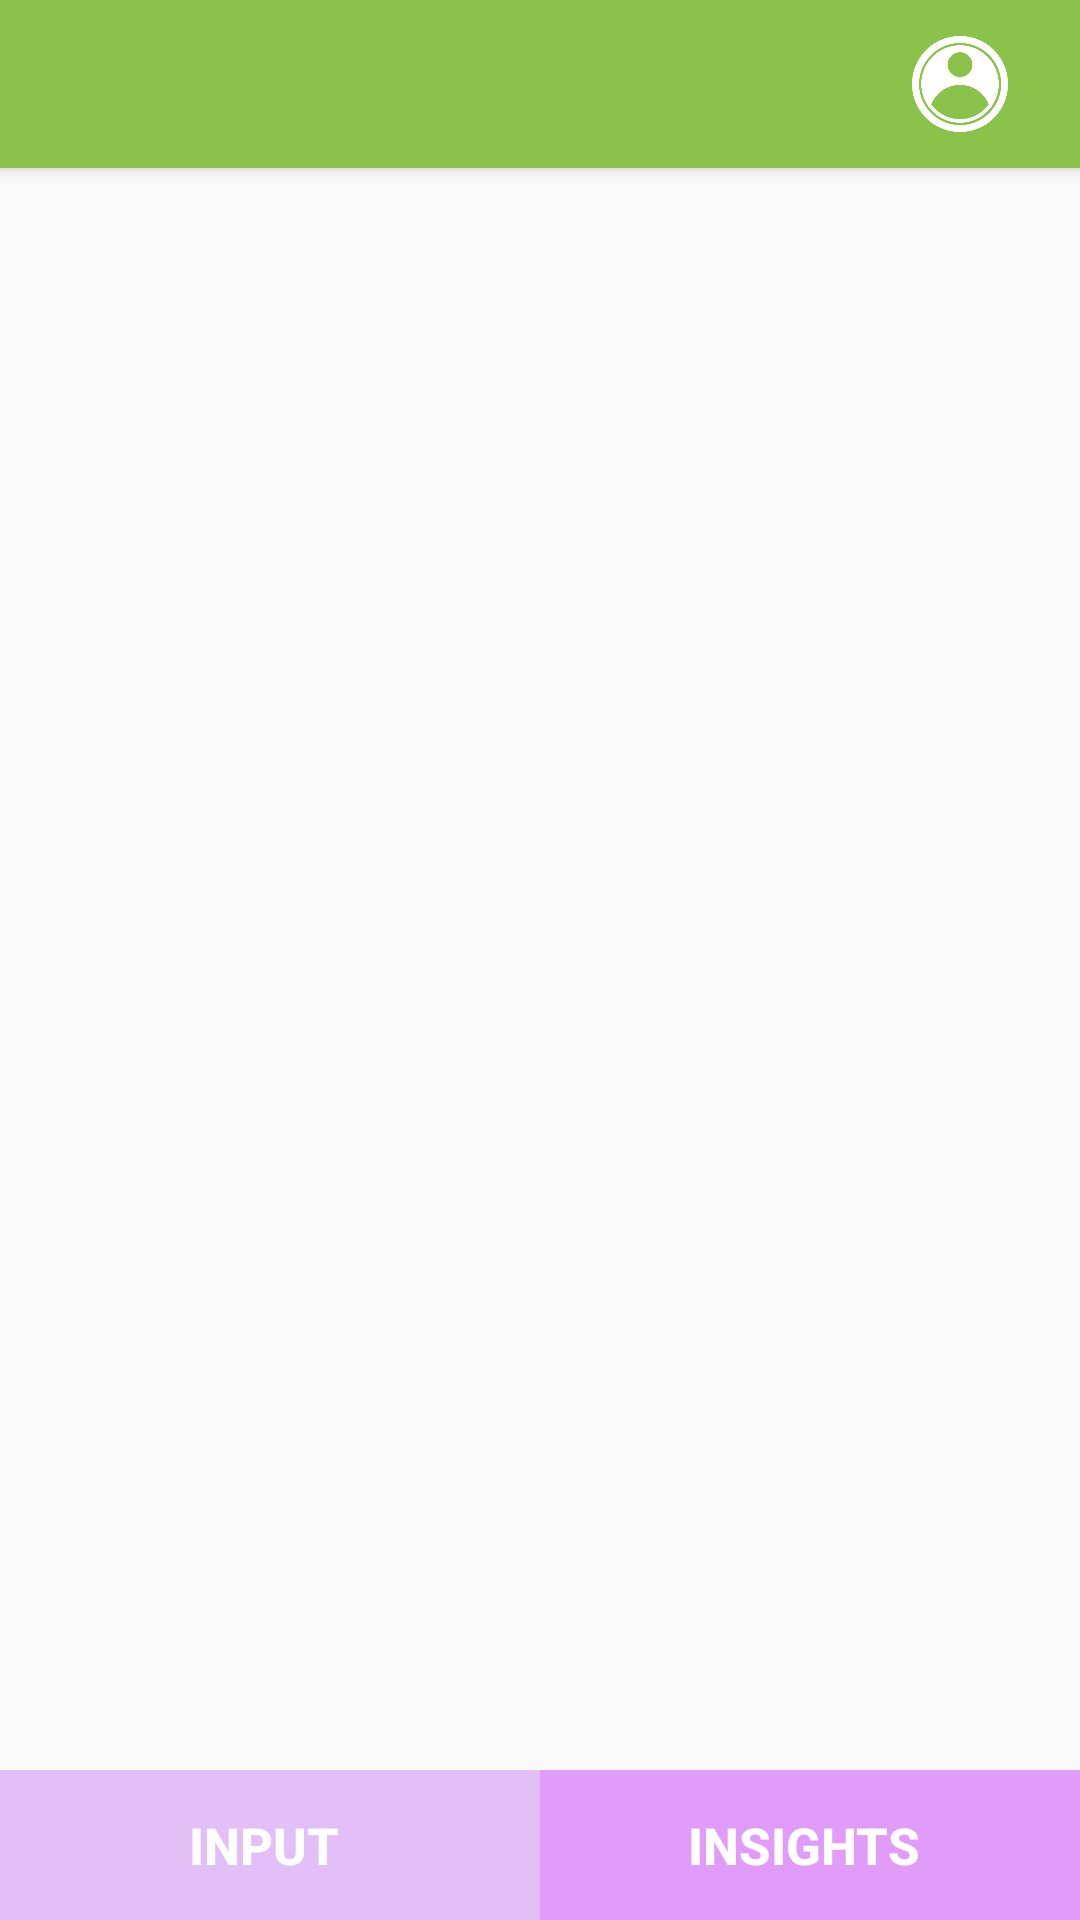

Icon bounding boxes for this 1080x1920 phone screenshot, format (x1, y1, x2, y2):
userima: (912, 36, 1008, 132)
